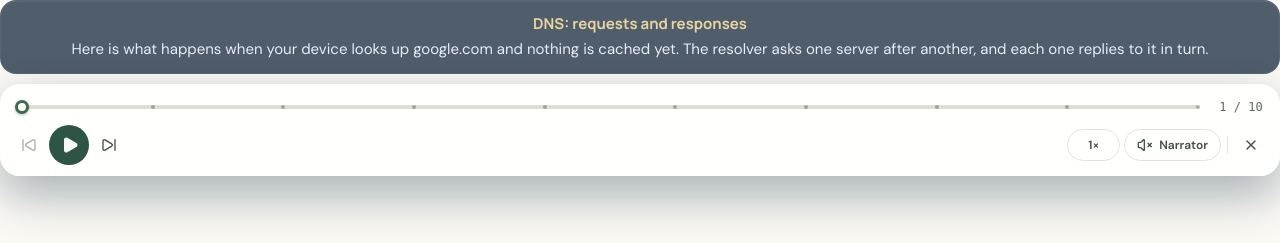
Test case: natural narrator › shows download progress while the voice model loads
Click the button "Narrator": (1173, 145) [1124,129,1221,161]
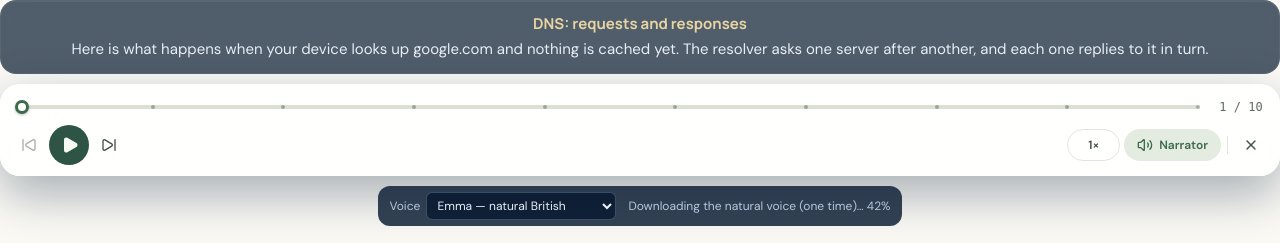
Result: the message reads "Downloading the natural voice (one time)… 42%" at [628,198,890,214]
